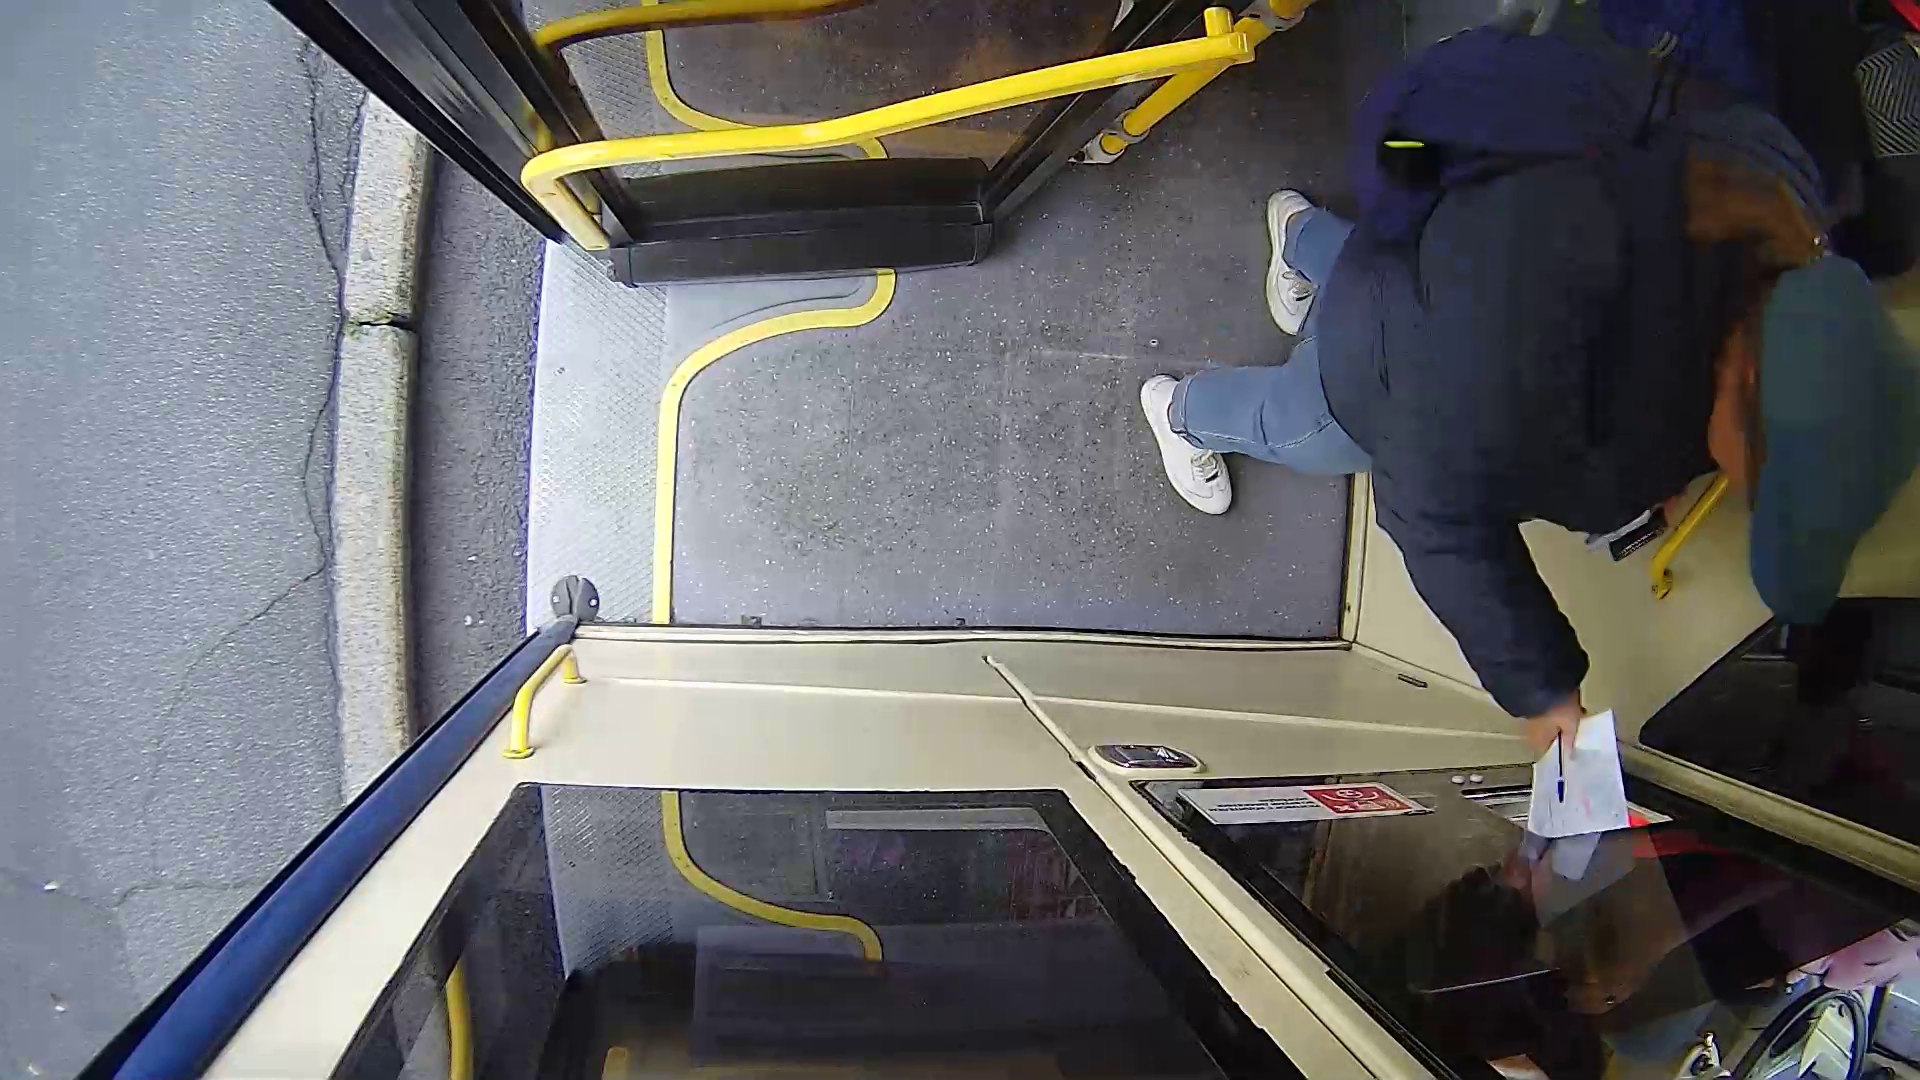person: (1109, 64, 1920, 708)
